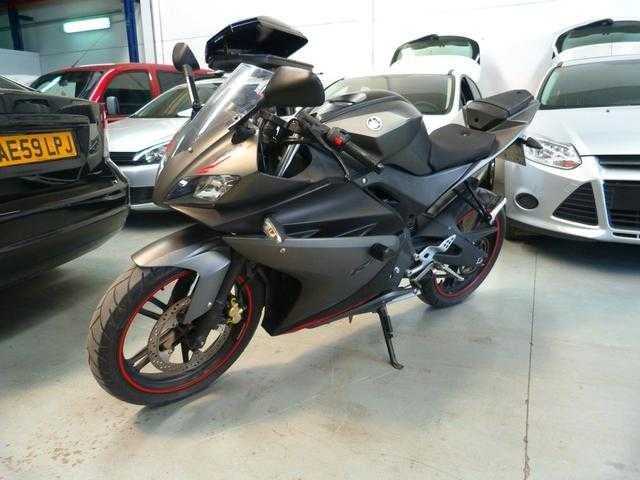motorcycle: (81, 54, 546, 414)
